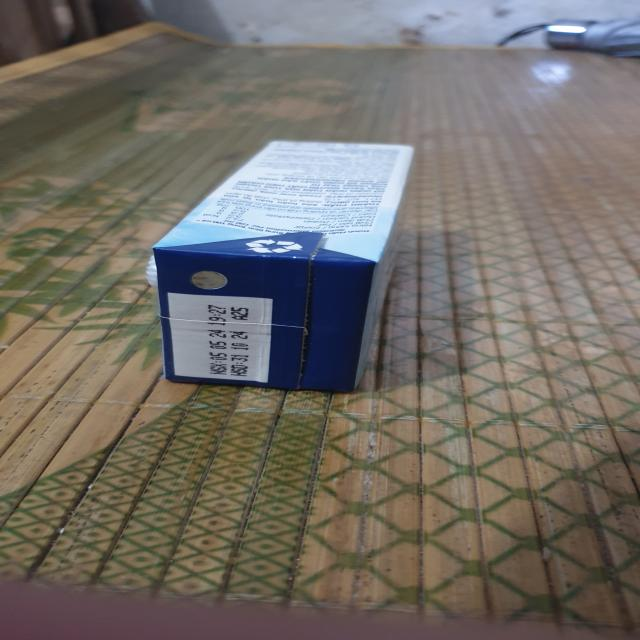TH: (155, 141, 421, 395)
